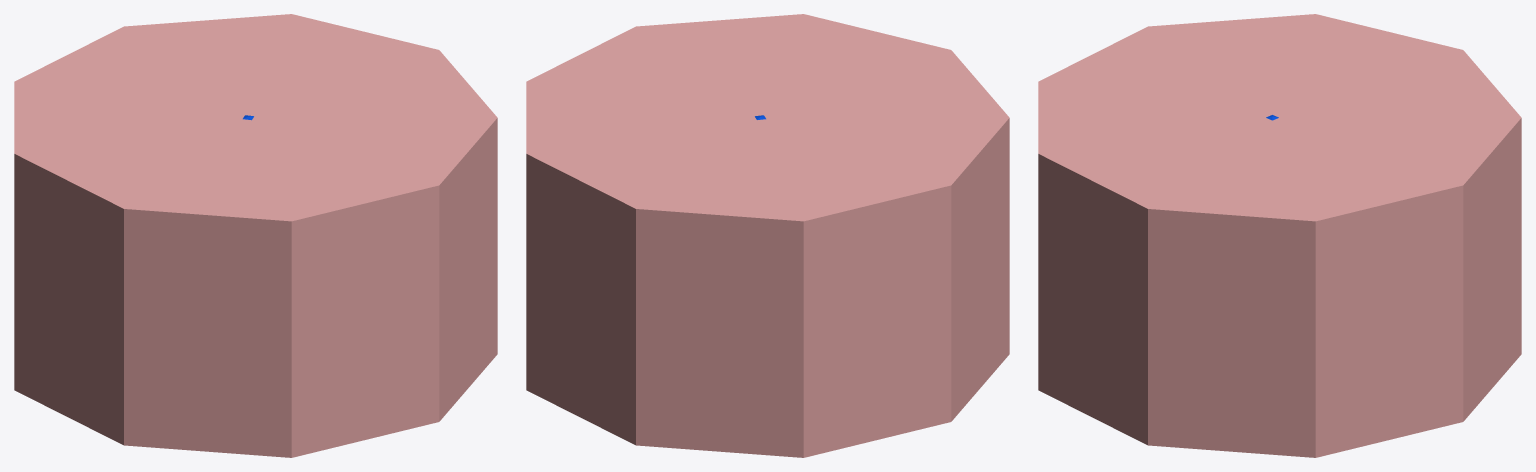
Rendered from Player.glb.
3 views of the same model, side by side, from view 1: azimuth 30°, elevation 25°; view 2: azimuth 150°, elevation 25°; view 3: azimuth 270°, elevation 25° (orthographic).
Visible parts, largest first — view 1: player_sensor.001; view 2: player_sensor.001; view 3: player_sensor.001.
Part boxes in pixels (left/top/right/bottom): player_sensor.001: left=14, top=14, right=497, bottom=457; player_sensor.001: left=526, top=14, right=1009, bottom=457; player_sensor.001: left=1038, top=14, right=1521, bottom=457.
Size of what is drawn, in the model's own units: 3.72 by 2 by 3.67.
